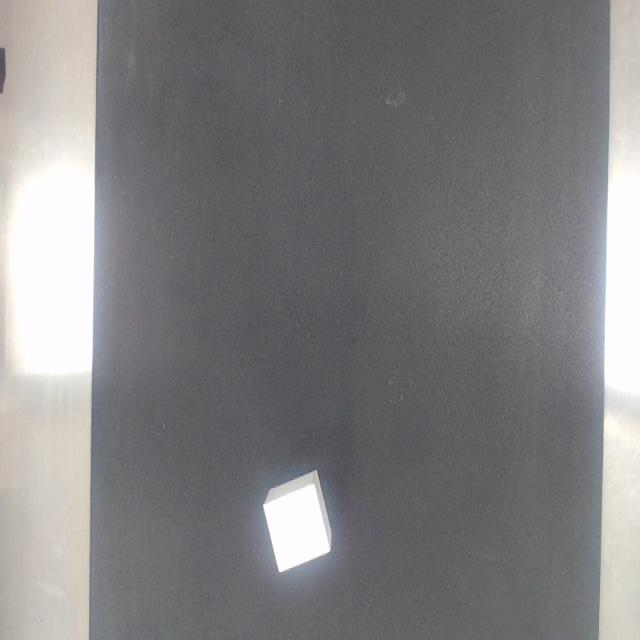Blanco: (263, 471, 331, 572)
